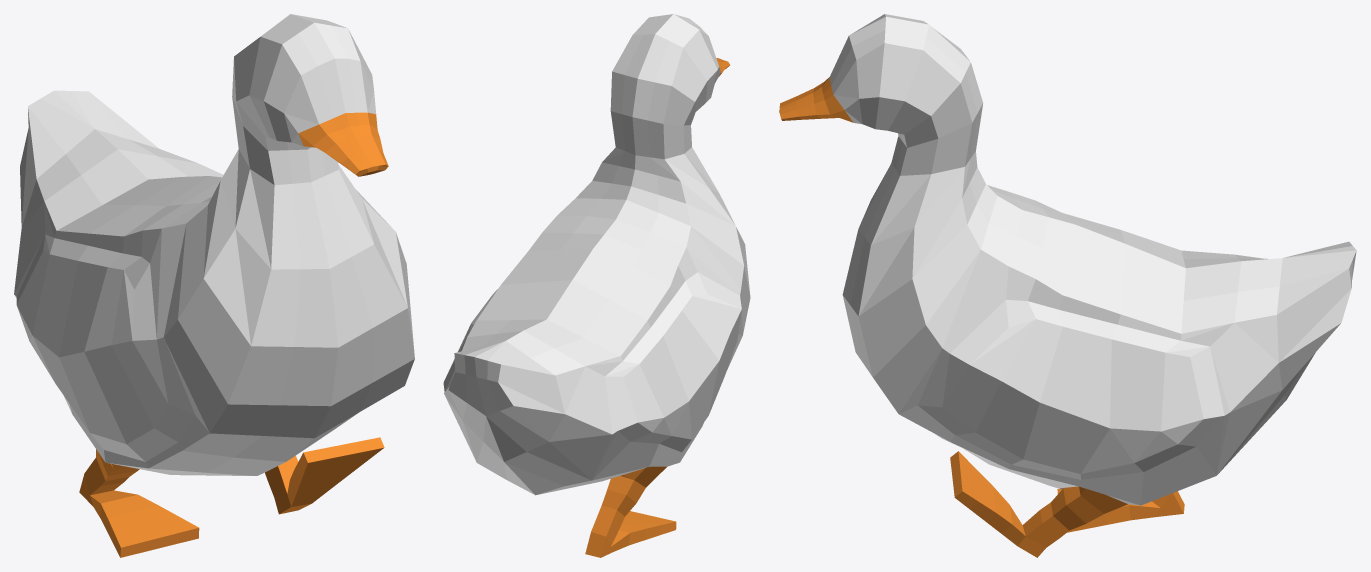
Rendered from Duck.fbx.
The picture shows the model from 3 angles, left to right: view 1: azimuth 30°, elevation 25°; view 2: azimuth 150°, elevation 25°; view 3: azimuth 270°, elevation 25°; orthographic projection. The views are drawn at different scales.
Visible parts, largest first — view 1: Duck; view 2: Duck; view 3: Duck.
Boxes of the visible parts, x1=… form: Duck: x1=14, y1=14, x2=414, y2=557; Duck: x1=443, y1=14, x2=750, y2=557; Duck: x1=779, y1=14, x2=1356, y2=557.
Bounding box in the file's own units: 0.0135 × 0.0258 × 0.0257.
1 material, 1 textured.
